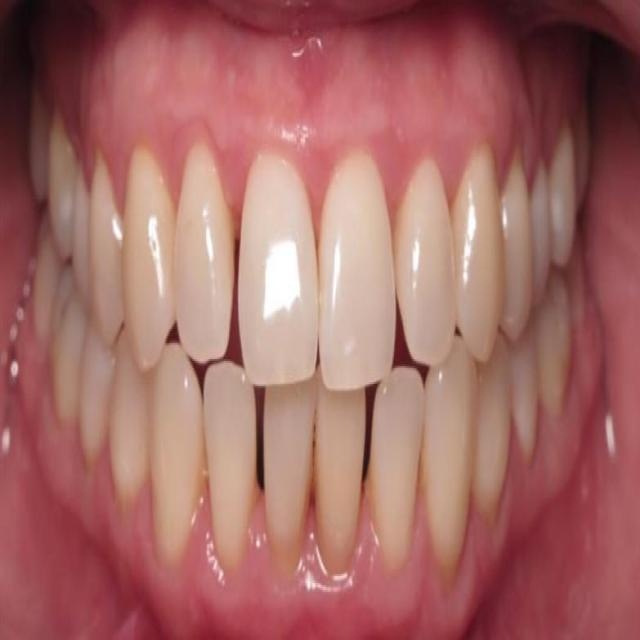1st Molar: (533, 268, 573, 420), (50, 272, 85, 422), (45, 117, 78, 256), (551, 126, 577, 265)
1st Premolar: (110, 336, 151, 508), (89, 154, 125, 339), (474, 335, 511, 512), (502, 149, 532, 341)
2nd Molar: (31, 212, 62, 340), (27, 84, 51, 194), (576, 108, 593, 200)
2nd Premolar: (79, 317, 111, 468), (511, 341, 539, 469), (532, 165, 553, 302), (71, 171, 90, 297)
Canine: (149, 340, 204, 569), (424, 347, 477, 583), (123, 144, 176, 375), (453, 148, 503, 364)
Central Incisor: (237, 145, 320, 389), (317, 153, 396, 393), (263, 386, 316, 572), (315, 388, 365, 576)
Lateral Incisor: (175, 142, 234, 361), (396, 160, 457, 366), (202, 363, 257, 569), (370, 367, 424, 574)
